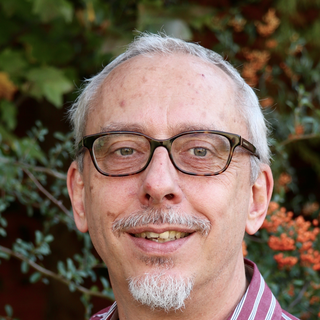eye: (175, 142, 222, 163), (104, 142, 143, 161)
